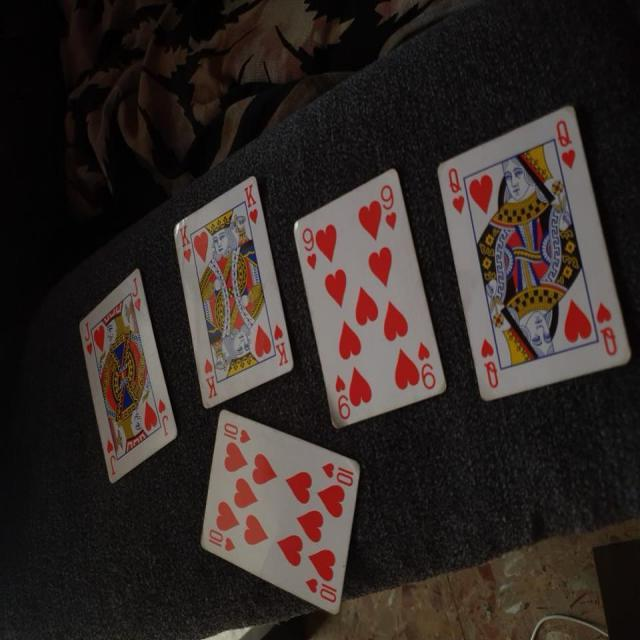10 of hearts: (195, 404, 365, 622)
9 of hearts: (286, 152, 448, 441)
jack of hearts: (68, 267, 183, 486)
king of hearts: (170, 173, 300, 414)
queen of hearts: (434, 92, 634, 396)
